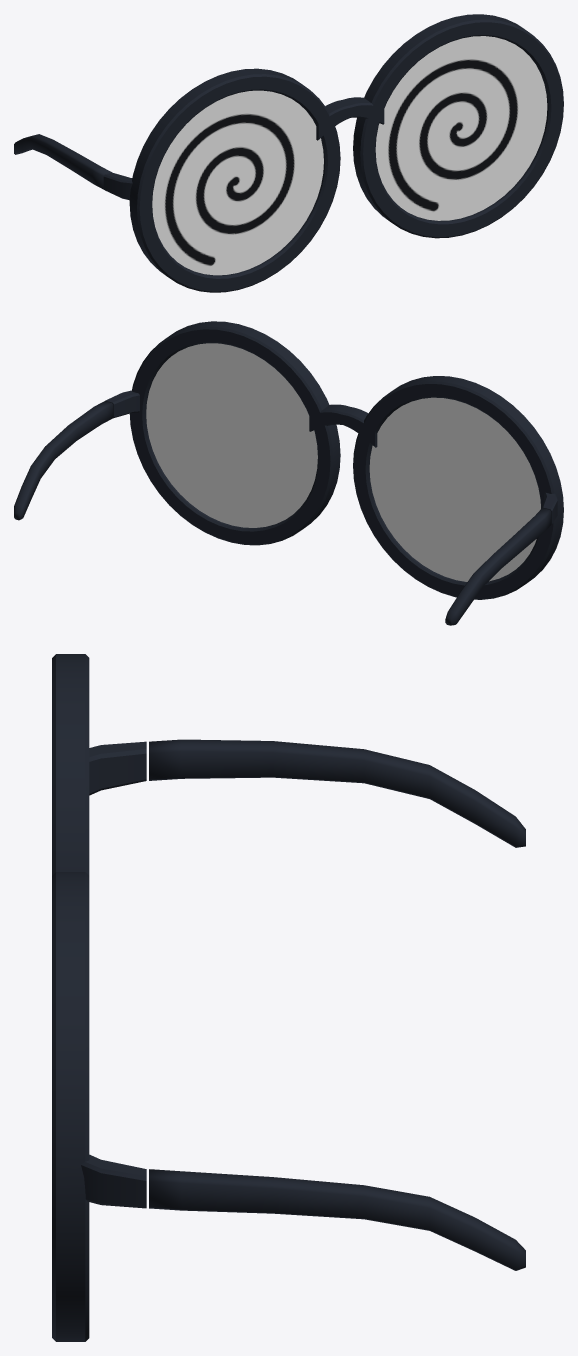
The model's file is KD_SpiralGlasses_Everyday.fbx.
The picture shows the model from 3 angles, top to bottom: view 1: azimuth 30°, elevation 25°; view 2: azimuth 150°, elevation 25°; view 3: azimuth 270°, elevation 25°; orthographic projection. The views are drawn at different scales.
Parts seen in each view (by area): view 1: KD_SpiralGlasses_Everyday; view 2: KD_SpiralGlasses_Everyday; view 3: KD_SpiralGlasses_Everyday.
Boxes of the visible parts, left/top/right/bottom form: KD_SpiralGlasses_Everyday: left=14, top=14, right=563, bottom=292; KD_SpiralGlasses_Everyday: left=14, top=321, right=563, bottom=625; KD_SpiralGlasses_Everyday: left=52, top=654, right=525, bottom=1341.
Size of the model in its own units: 0.2086 by 0.093 by 0.0937.
1 material, 1 textured.
